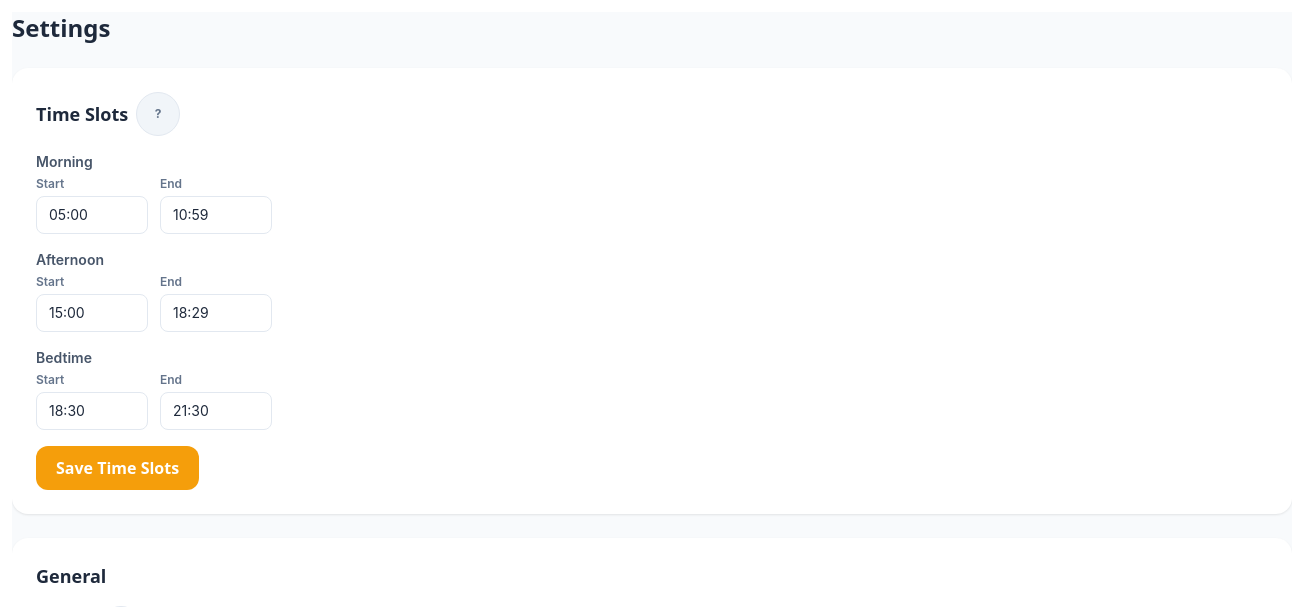
Test case: SettingsScreen › shows validation error for invalid time format
The image size is (1292, 607).
Replace the text in the field showing "05:00" below "Morning" with "abc". click: (92, 215)
box: [36,196,148,234]
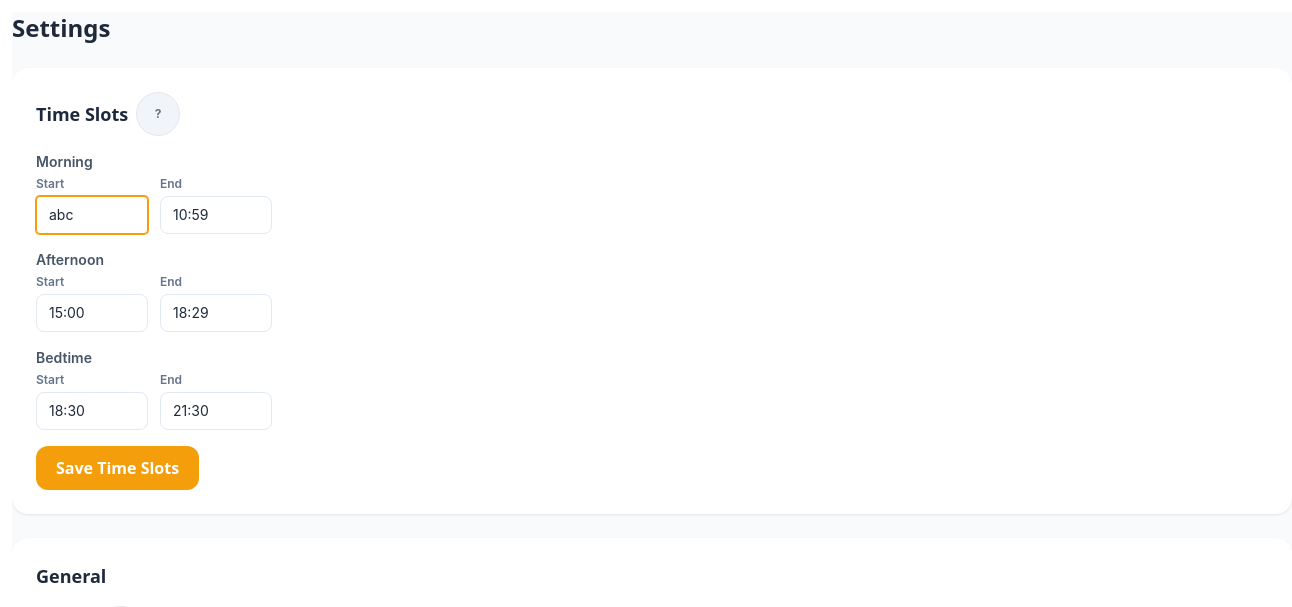
Click the button "Save Time Slots". click: (118, 468)
box: [36,446,199,490]
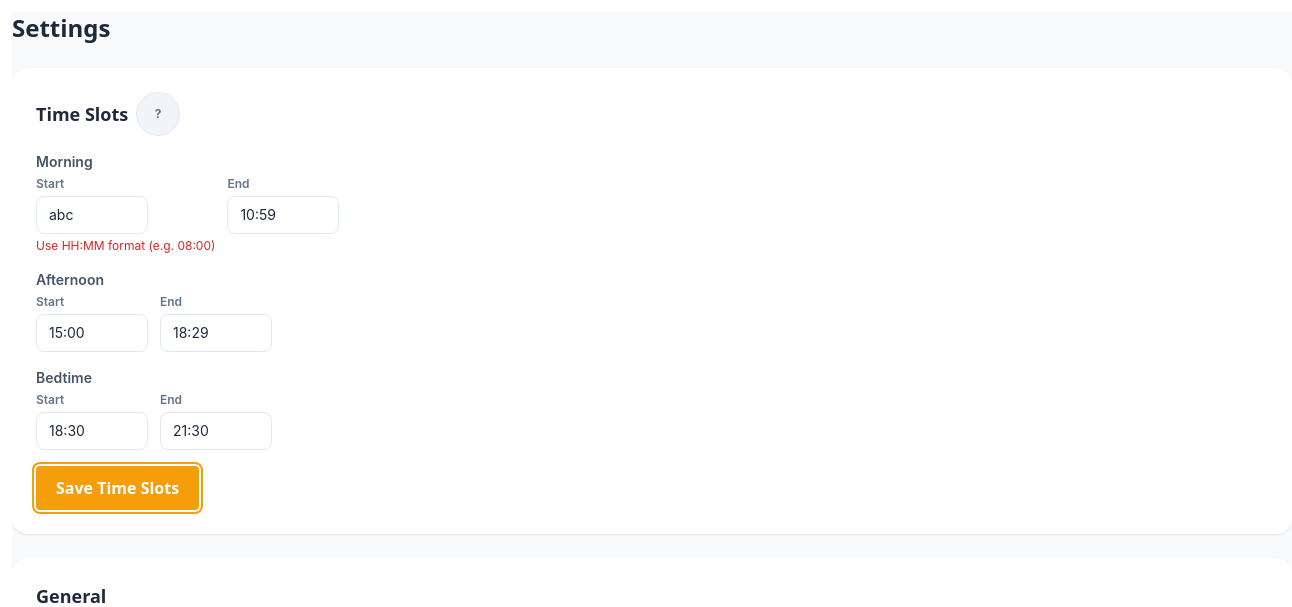
Expected: the text "Use HH:MM format (e.g. 08:00)" is shown, [36,238,215,254]
